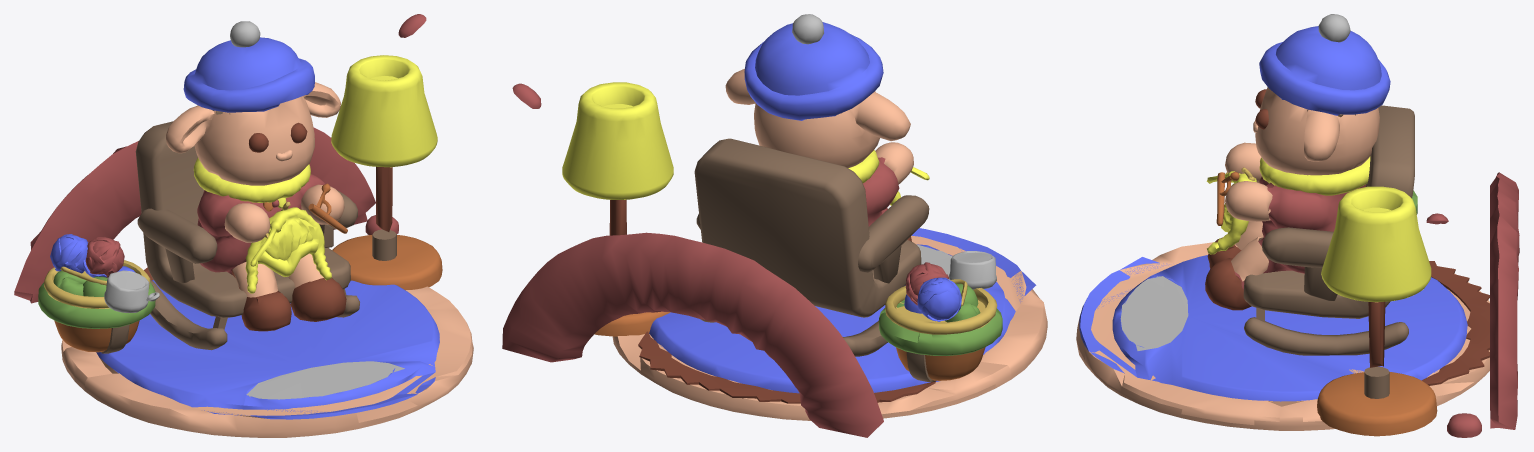
Rendered from SheepYarnKnitter.fbx.
3 renders of one model, left to right at view 1: azimuth 30°, elevation 25°; view 2: azimuth 150°, elevation 25°; view 3: azimuth 270°, elevation 25°, orthographic. The views are drawn at different scales.
Visible parts, largest first — view 1: S_SheepYarnKnitter, M_SheepYarnKnitter, D_SheepYarnKnitter_7, D_SheepYarnKnitter_4; view 2: S_SheepYarnKnitter, M_SheepYarnKnitter, D_SheepYarnKnitter_4; view 3: S_SheepYarnKnitter, M_SheepYarnKnitter, D_SheepYarnKnitter_7, D_SheepYarnKnitter_3, D_SheepYarnKnitter_4.
Part boxes in pixels (x1,y1,x2,y2): S_SheepYarnKnitter: [14, 55, 473, 437]; M_SheepYarnKnitter: [135, 37, 350, 318]; D_SheepYarnKnitter_7: [372, 229, 396, 260]; D_SheepYarnKnitter_4: [230, 21, 260, 47]; S_SheepYarnKnitter: [502, 68, 1047, 437]; M_SheepYarnKnitter: [694, 22, 921, 317]; D_SheepYarnKnitter_4: [792, 14, 823, 44]; S_SheepYarnKnitter: [1076, 87, 1519, 436]; M_SheepYarnKnitter: [1234, 26, 1414, 318]; D_SheepYarnKnitter_7: [1364, 366, 1389, 398]; D_SheepYarnKnitter_3: [1447, 413, 1481, 437]; D_SheepYarnKnitter_4: [1318, 14, 1350, 42].
Size of the model in its own units: 610 by 440 by 544.
